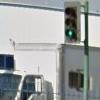Traffic light: (53, 0, 91, 47)
